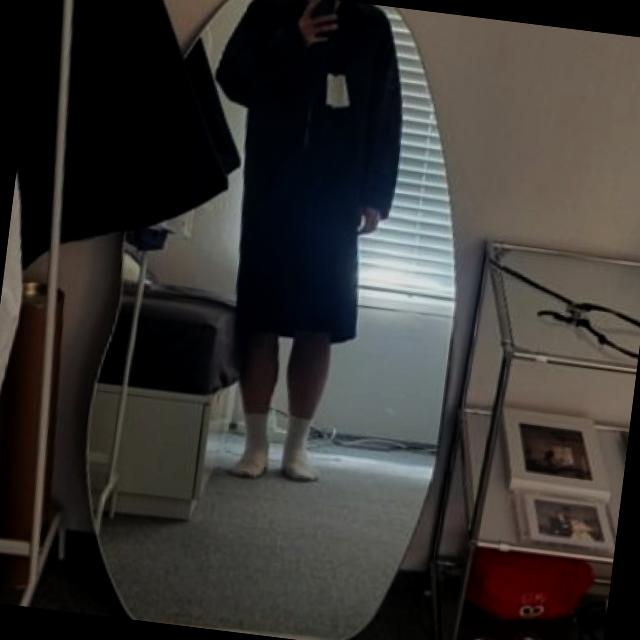coat: (184, 0, 416, 343)
